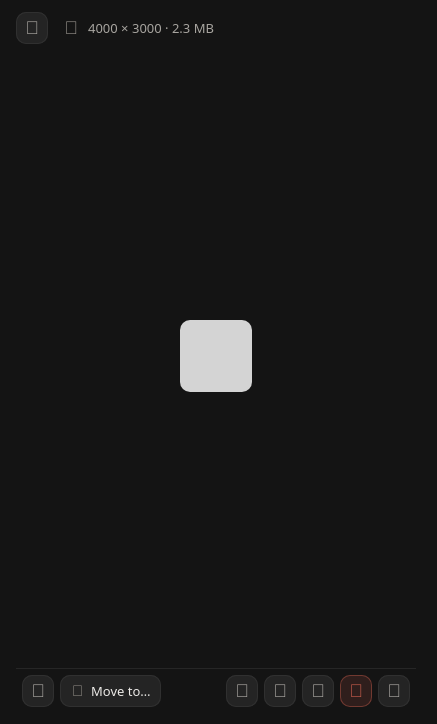
the header row gives the shape and size, and opens onto the rest, remembered
Click the button " 4000 × 3000 · 2.3 MB" at (151, 28), box x1=54 y1=12 x2=416 y2=44
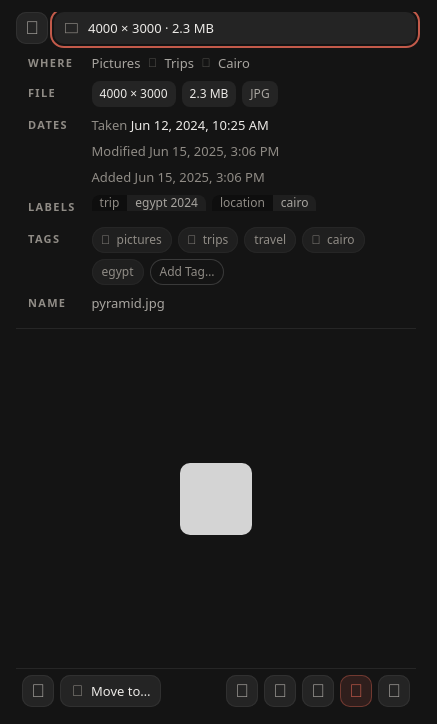
expect the text "Where" is shown: met, box x1=28 y1=55 x2=73 y2=70
expect the text "File" is shown: met, box x1=28 y1=85 x2=56 y2=100
expect the text "Dates" is shown: met, box x1=28 y1=117 x2=68 y2=132
